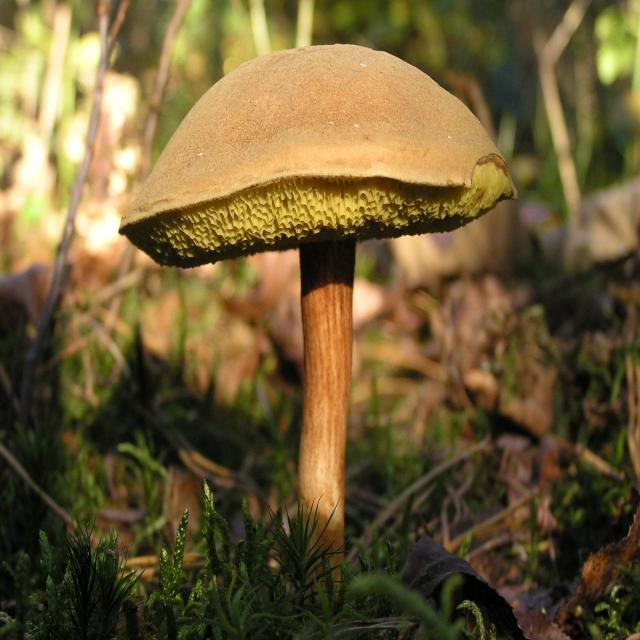Boletus: (123, 42, 518, 576)
